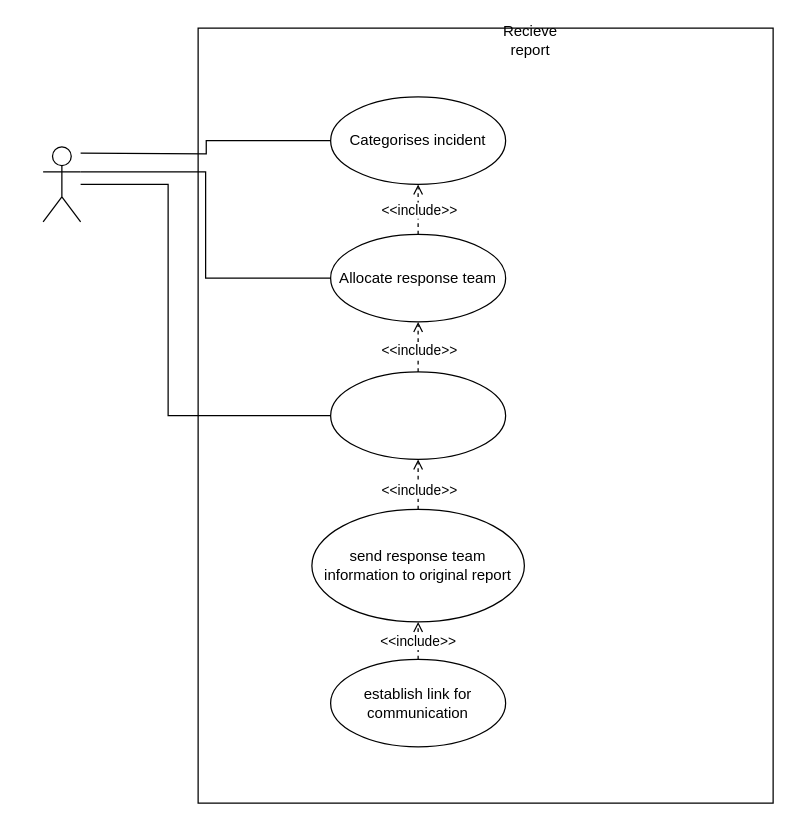
Image size: 795x825. Some labels were removed from this diagram. The shapes that lost their labels are listed below. From the top down, each one's centre as x and y in pixels, then its label:
At point (61, 184): "Emergency response".
At point (417, 415): "allow live location sharing for response team".
